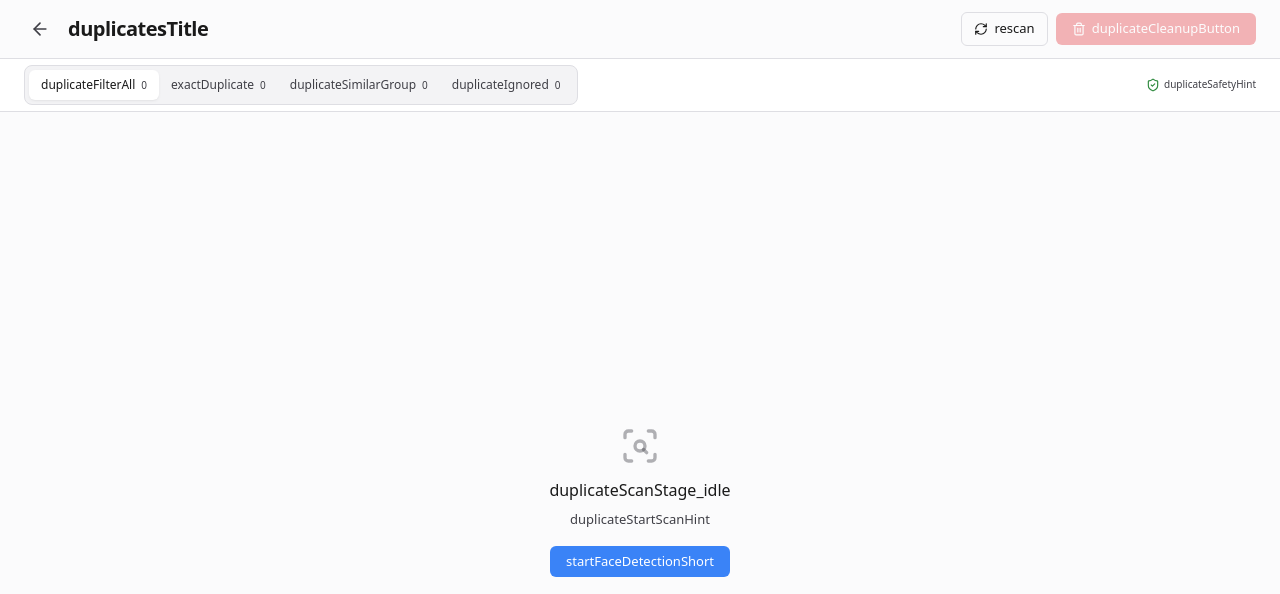
Scenario: DuplicatesPage persisted review › keeps all photos without creating an empty deletion plan
The image size is (1280, 594).
Click the button "startFaceDetectionShort" at coordinates (640, 562), box [550,546,730,577]
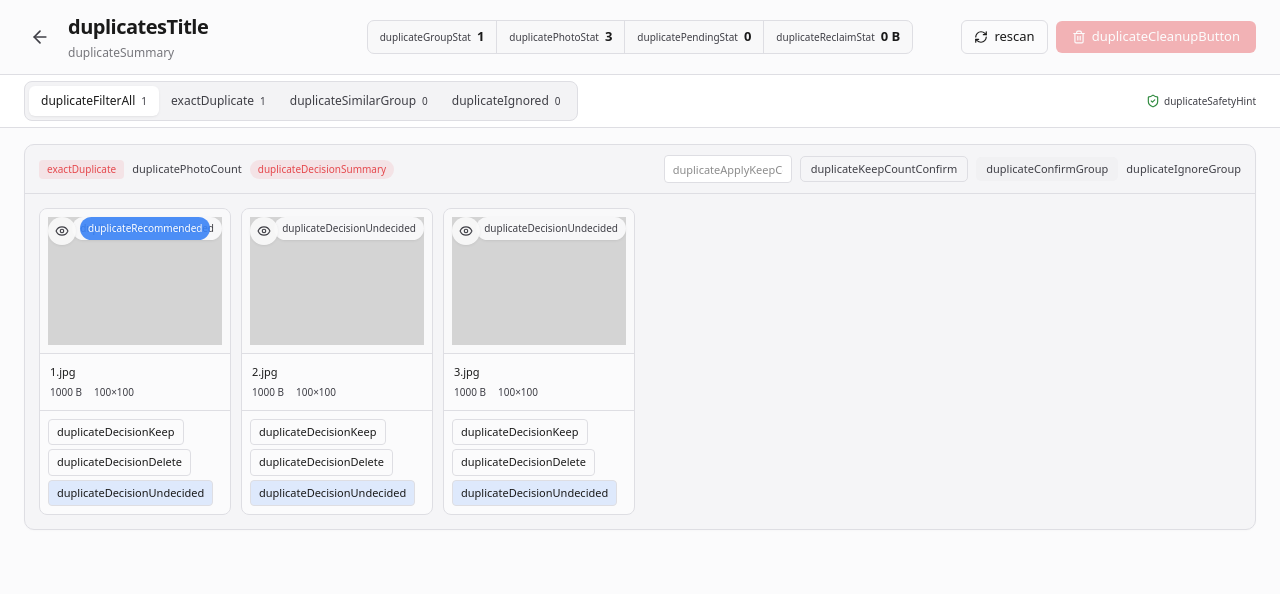
Now the text "1.jpg" is shown, box [50,364,76,379]
Type "3" into the dropdown labelled "duplicateApplyKeepCount" at coordinates (728, 169), box [664,155,792,183]
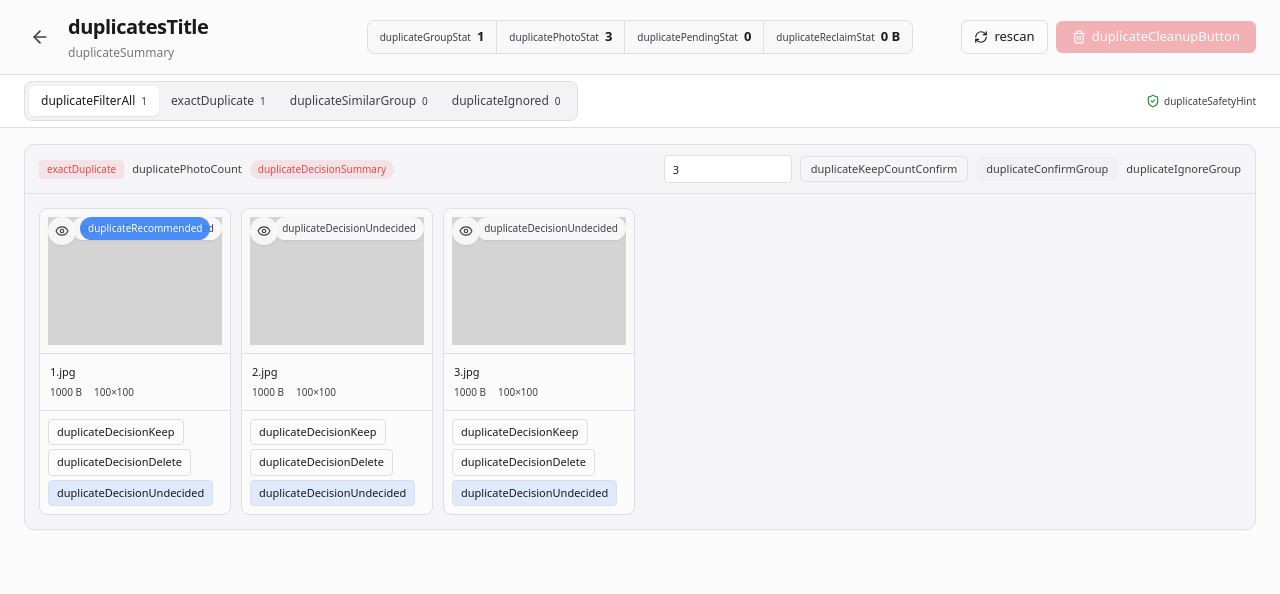
Click the button "duplicateKeepCountConfirm" at coordinates (884, 169), box [800,156,968,182]
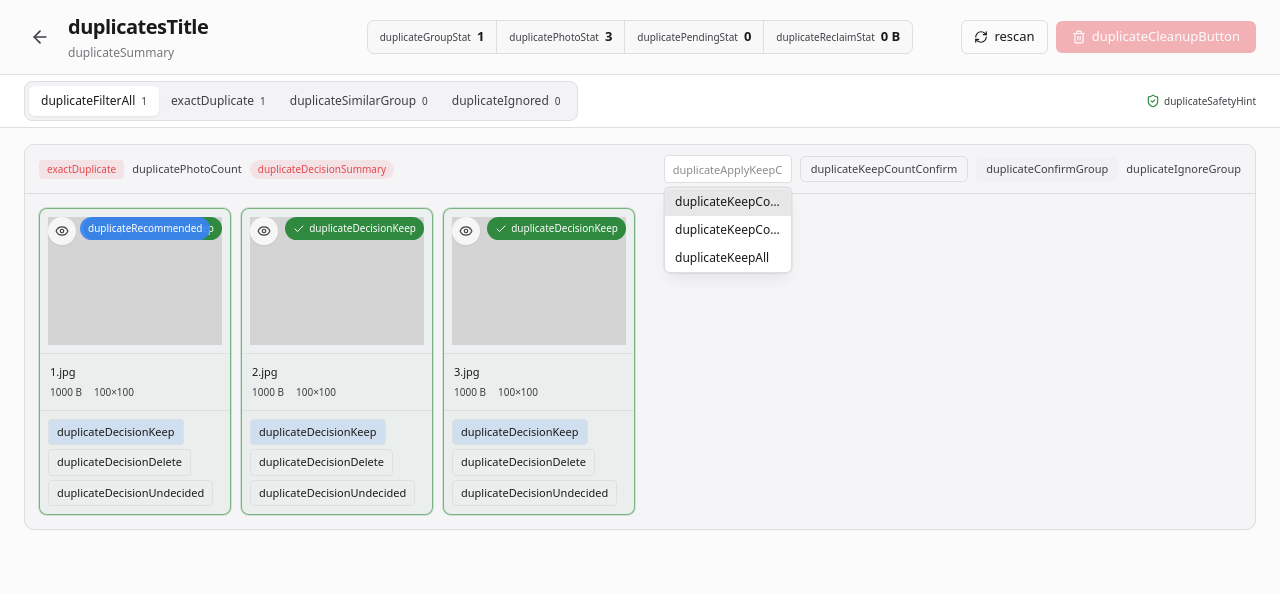
Click the button "duplicateConfirmGroup" at coordinates (1047, 169), box [976,157,1118,181]
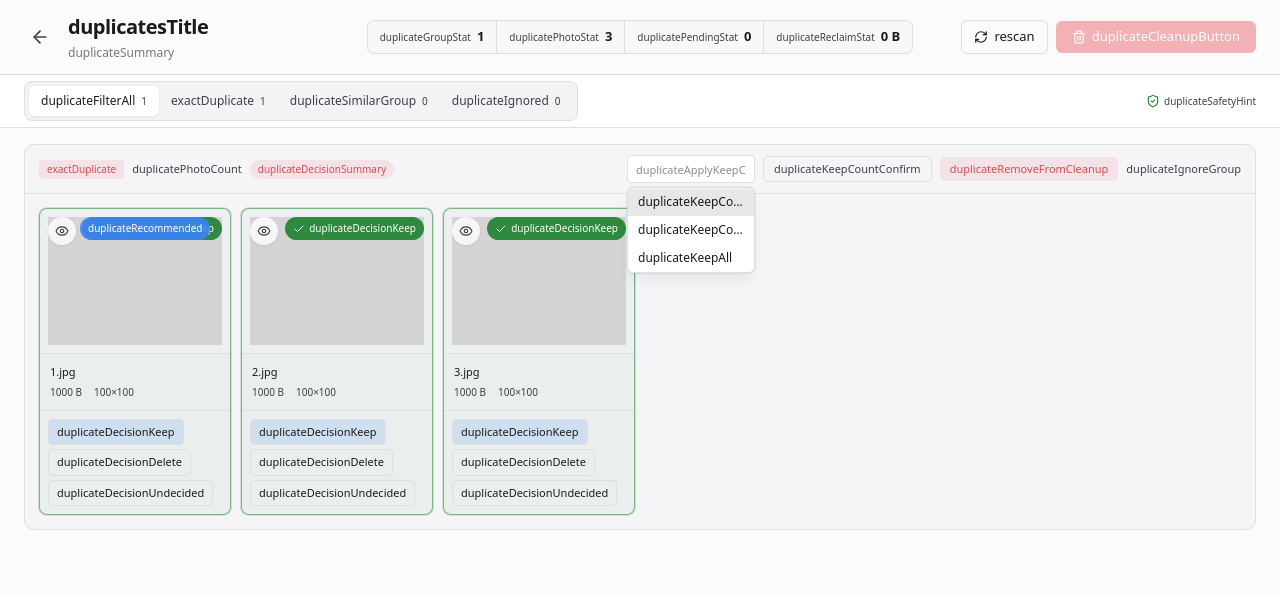
Expected: the button "duplicateCleanupButton" is disabled, [1056,21,1256,53]
Now the button "duplicateRemoveFromCleanup" is shown, box [940,157,1118,181]
